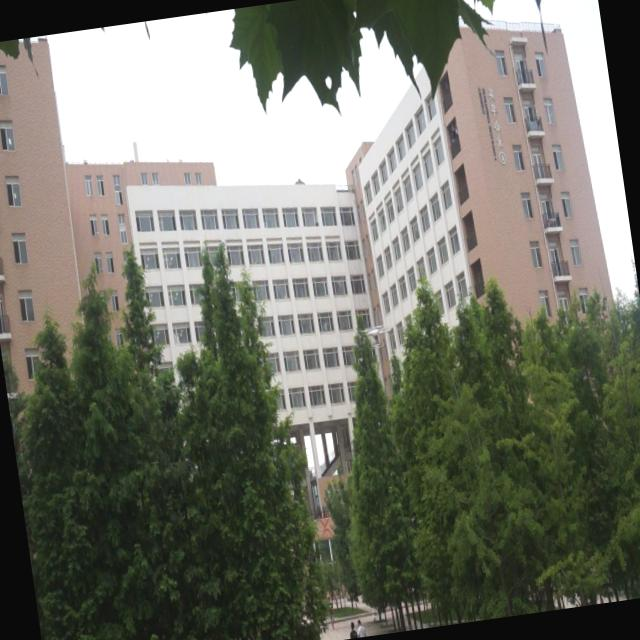drone: (365, 324, 388, 348)
